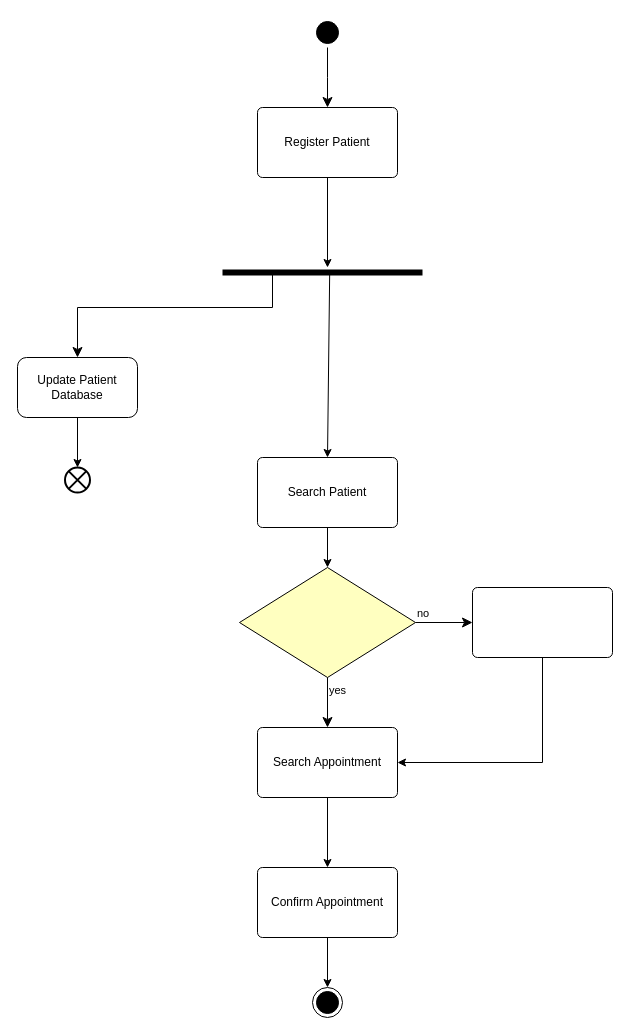
Image size: 630x1035. Some labels were removed from this diagram. Each missing label, with the centre of its shape:
"Appointment Booked?" belongs at point (327, 622).
"Book Appointment" belongs at point (542, 622).
